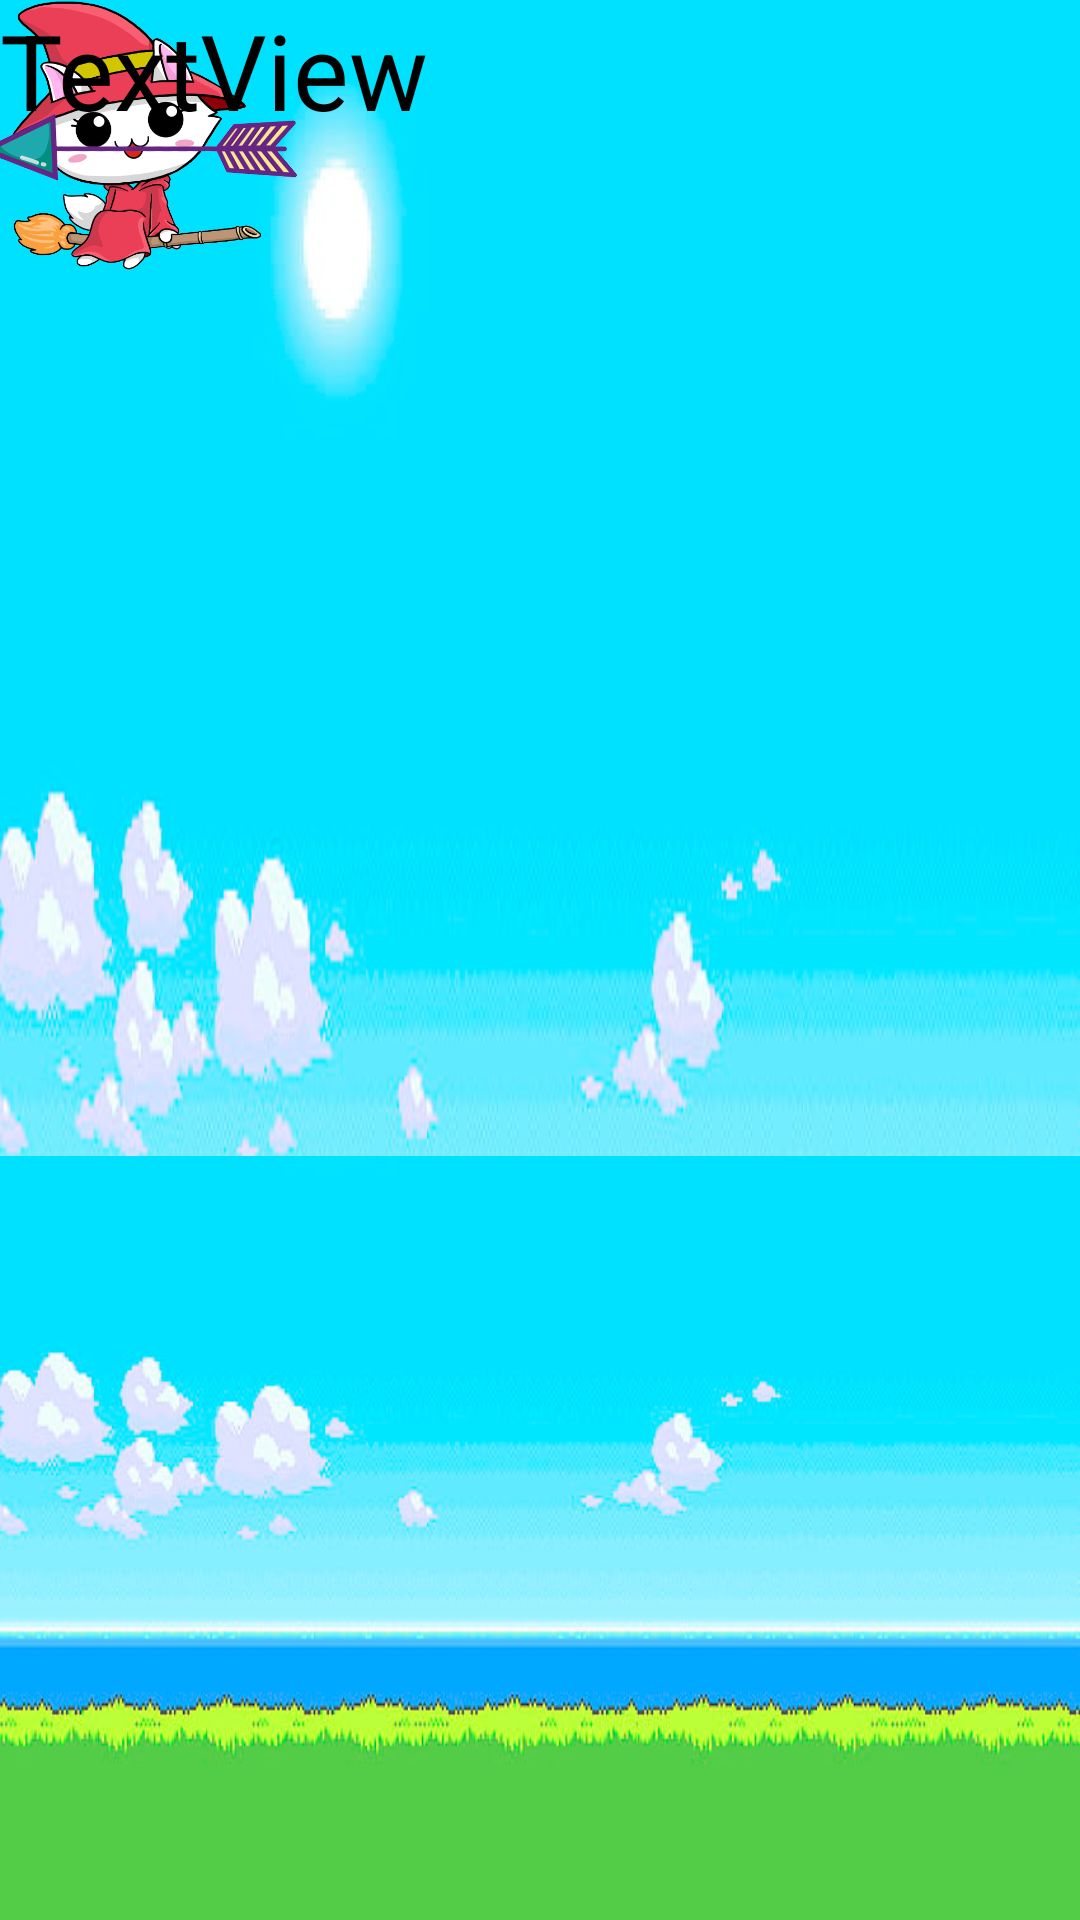

Icons on this 1080 x 1920 Android screen, each with its box as (x1, y1, x2, y2):
witch cat girl: (0, 1, 270, 270)
